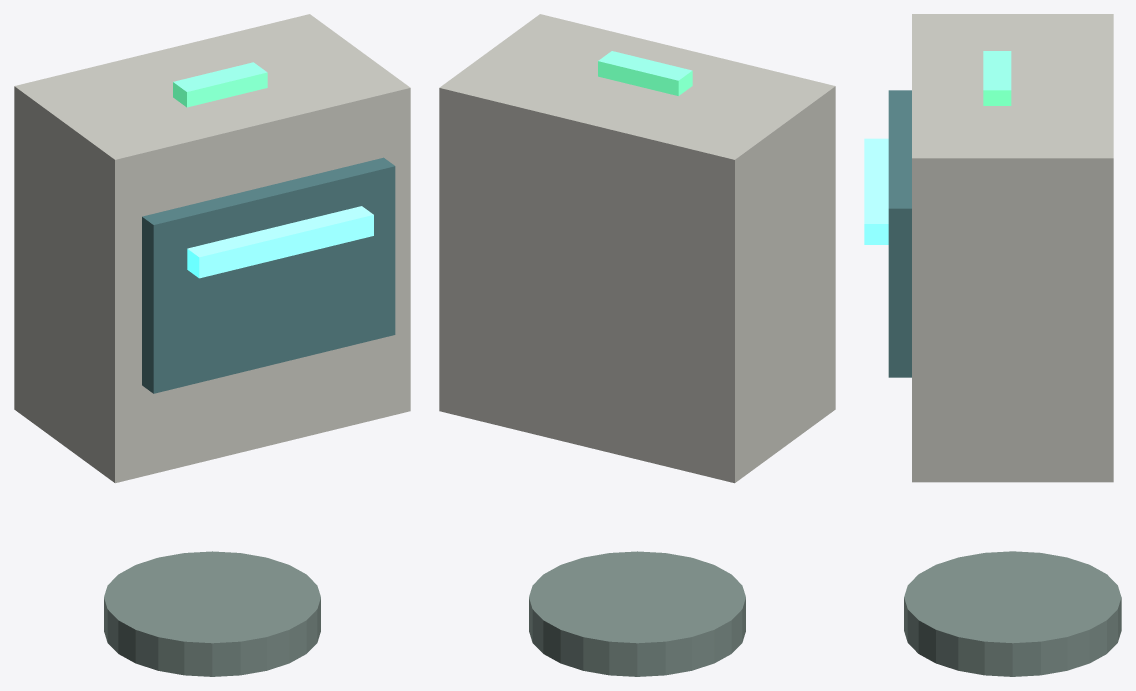
File: s7-i06-sensor-leak.glb
3 views of the same model, side by side, from view 1: azimuth 30°, elevation 25°; view 2: azimuth 150°, elevation 25°; view 3: azimuth 270°, elevation 25° (orthographic).
Parts seen in each view (by area): view 1: 000_sealed_field_sensor, 001_status_readout, 004_leak_ground_probe, 002_data_display_glow, 005_power_led; view 2: 000_sealed_field_sensor, 004_leak_ground_probe, 005_power_led; view 3: 000_sealed_field_sensor, 004_leak_ground_probe, 001_status_readout, 002_data_display_glow, 005_power_led.
Part boxes in pixels (x1,y1,x2,y2): 000_sealed_field_sensor: [14, 14, 410, 483]; 001_status_readout: [142, 157, 395, 393]; 004_leak_ground_probe: [104, 551, 320, 676]; 002_data_display_glow: [187, 206, 373, 278]; 005_power_led: [173, 62, 267, 107]; 000_sealed_field_sensor: [439, 14, 835, 483]; 004_leak_ground_probe: [529, 551, 745, 676]; 005_power_led: [598, 51, 692, 95]; 000_sealed_field_sensor: [912, 14, 1113, 482]; 004_leak_ground_probe: [904, 551, 1121, 676]; 001_status_readout: [888, 90, 911, 377]; 002_data_display_glow: [864, 138, 888, 244]; 005_power_led: [983, 51, 1011, 105].
Size of the model in its own units: 0.22 by 0.398 by 0.1655.
